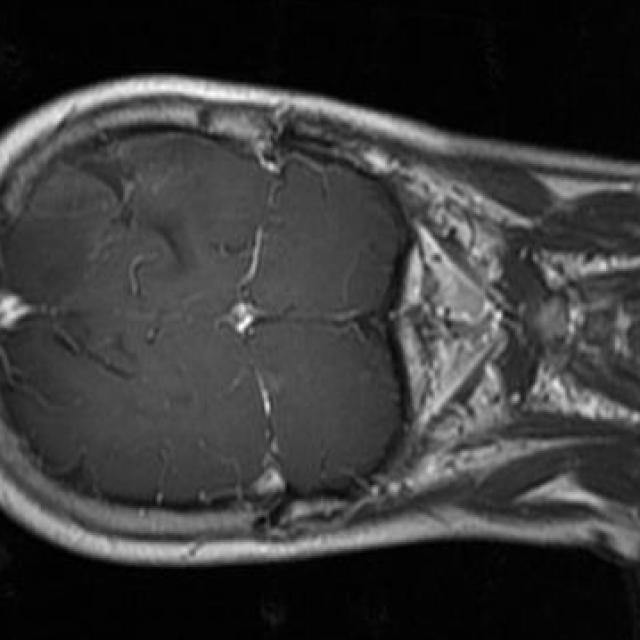glioma: (2, 152, 201, 305)
